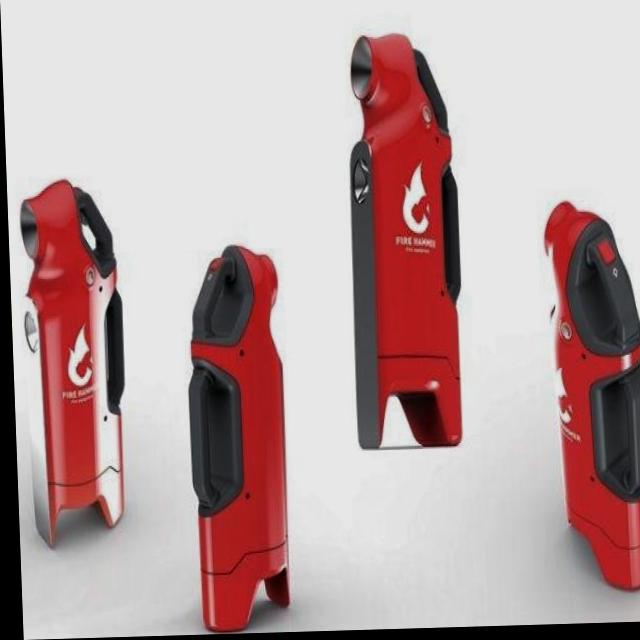FireExtinguisher: (333, 25, 471, 463), (178, 240, 296, 635), (11, 173, 128, 547), (537, 192, 640, 605)
